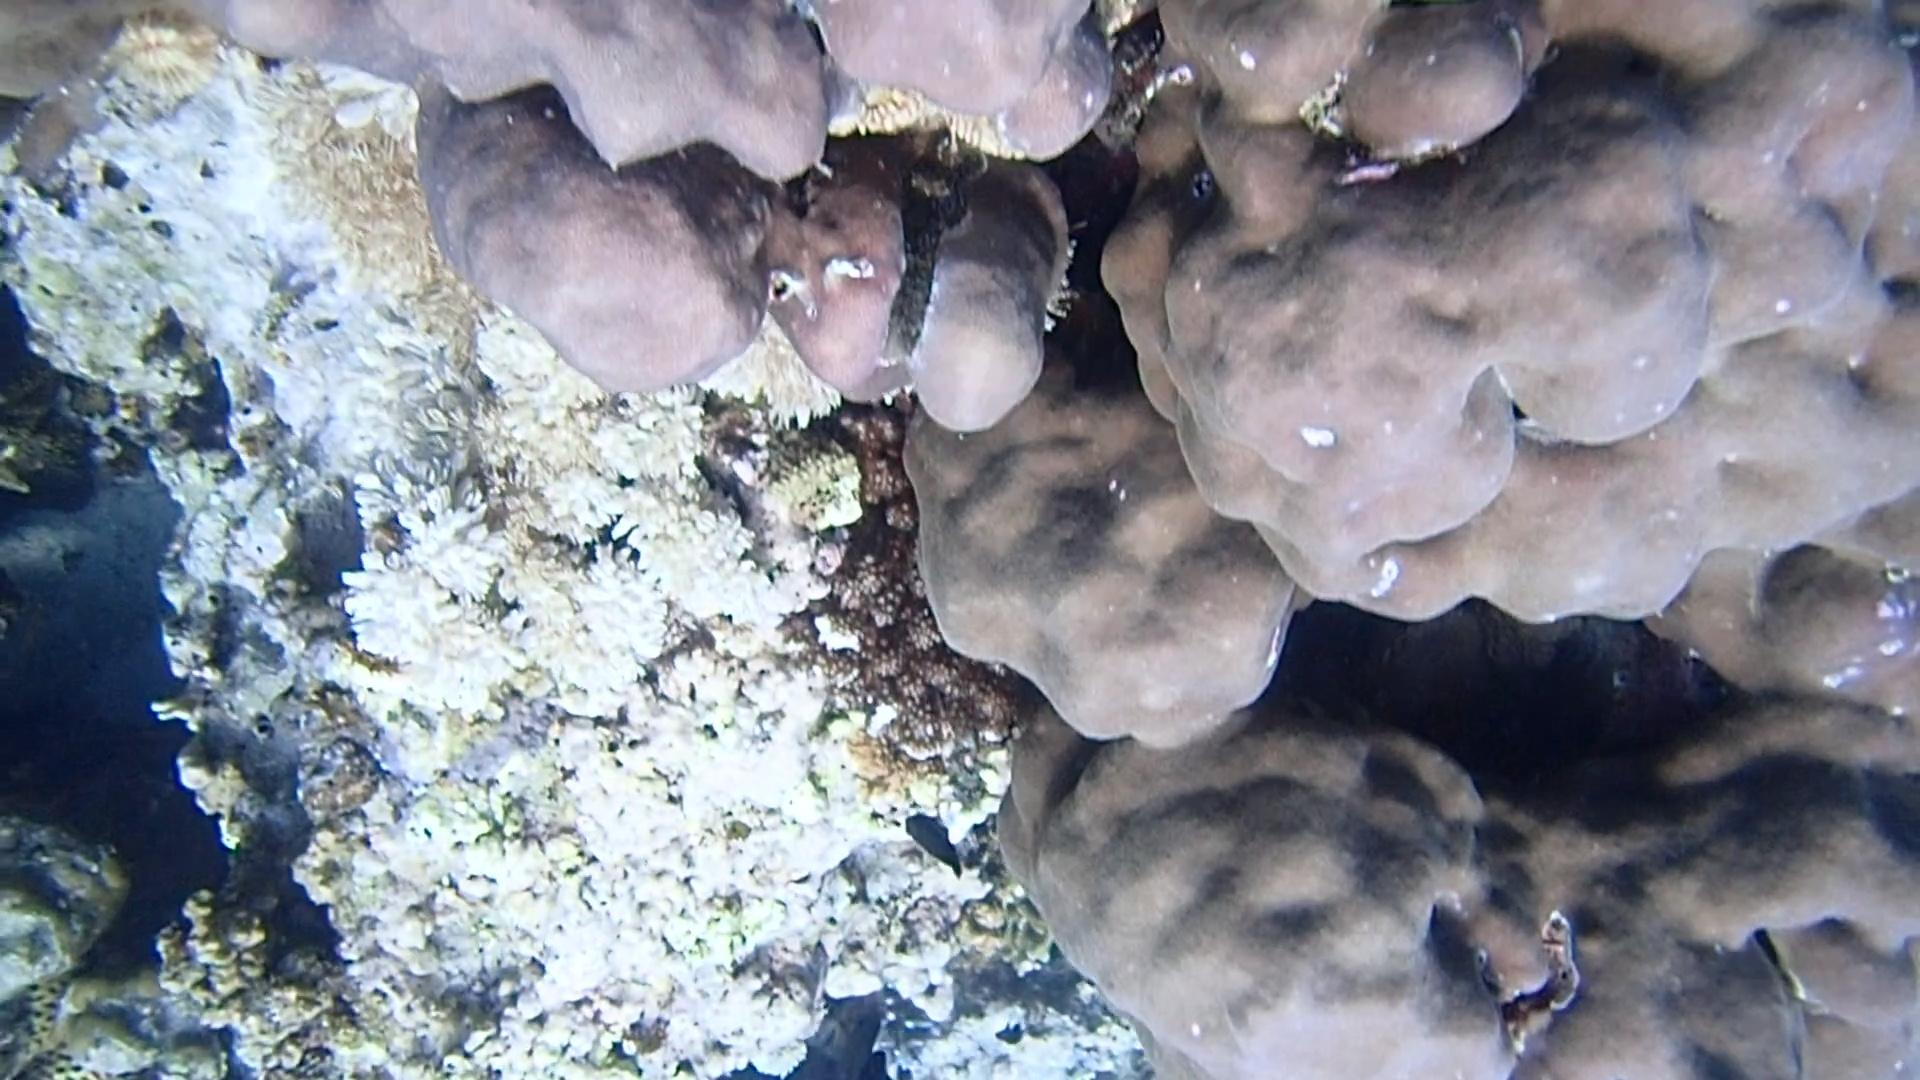Dark Fish: (897, 803, 967, 887), (992, 1021, 1027, 1050)
